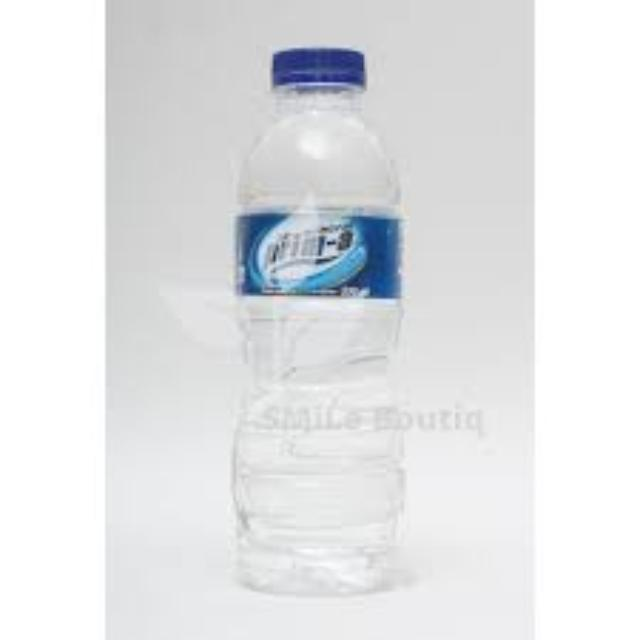trash: (226, 41, 406, 606)
